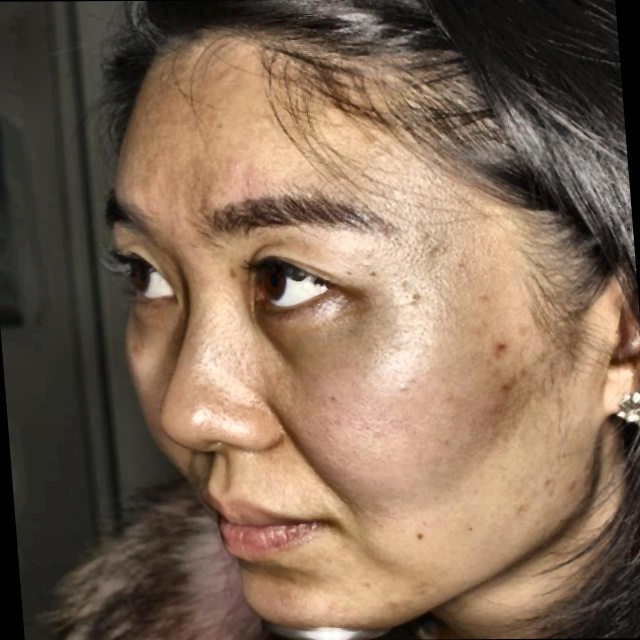comedone: (488, 329, 513, 361), (556, 469, 580, 496)
